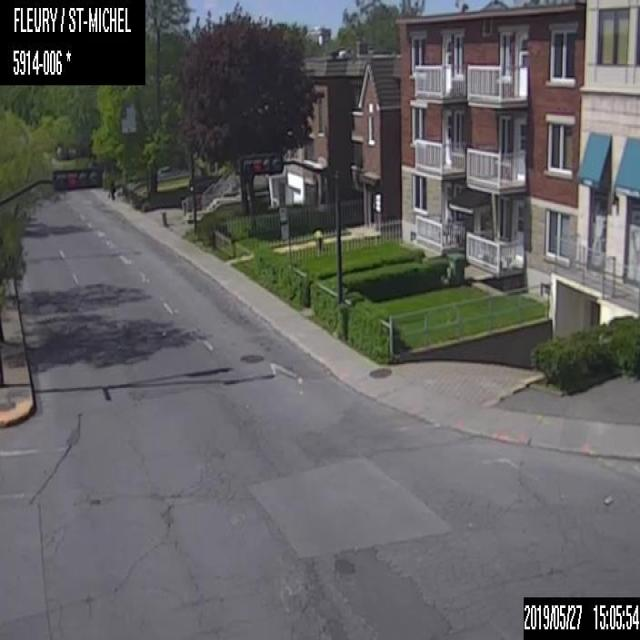pedestrian: (108, 177, 116, 203)
